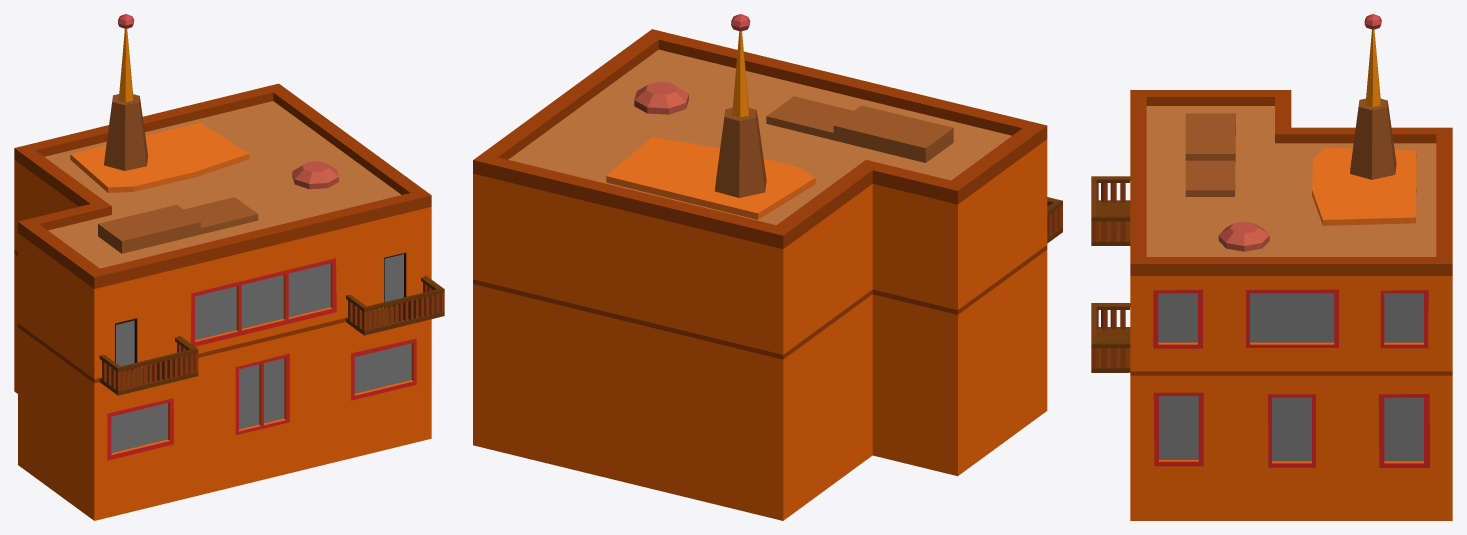
Rendered from Hochhaus dach.fbx.
3 views of the same model, side by side, from view 1: azimuth 30°, elevation 25°; view 2: azimuth 150°, elevation 25°; view 3: azimuth 270°, elevation 25° (orthographic). The views are drawn at different scales.
Parts seen in each view (by area): view 1: Haus, Haus Top Boden, Haus Kante, Fenster, Antenne Bottom, Halterung Fenster, Cube Platform, Balkon, Balkon Reeling, Antennne 2 Bottom, Haus Außen Boden, Zylinder Platform (+2 smaller); view 2: Haus, Haus Kante, Haus Top Boden, Antenne Bottom, Cube Platform, Antennne 2 Bottom, Haus Außen Boden, Zylinder Platform, Antennne 2 Top; view 3: Haus, Haus Top Boden, Fenster, Haus Kante, Halterung Fenster, Antenne Bottom, Cube Platform, Balkon Reeling, Antennne 2 Bottom, Balkon, Haus Außen Boden, Zylinder Platform (+1 smaller).
Boxes of the visible parts, box(x1,y1,x2,y2) form: Haus: box(14, 160, 431, 520); Haus Top Boden: box(44, 101, 400, 268); Haus Kante: box(14, 83, 431, 288); Fenster: box(111, 254, 411, 453); Antenne Bottom: box(70, 123, 249, 192); Halterung Fenster: box(107, 258, 416, 460); Cube Platform: box(98, 197, 258, 253); Balkon: box(102, 282, 444, 391); Balkon Reeling: box(99, 276, 444, 395); Antennne 2 Bottom: box(104, 94, 147, 170); Haus Außen Boden: box(14, 250, 345, 383); Zylinder Platform: box(292, 161, 338, 189); Haus: box(473, 139, 1047, 520); Haus Kante: box(473, 29, 1047, 248); Haus Top Boden: box(508, 49, 1011, 225); Antenne Bottom: box(606, 137, 815, 219); Cube Platform: box(766, 96, 953, 162); Antennne 2 Bottom: box(714, 108, 766, 197); Haus Außen Boden: box(473, 245, 1047, 359); Zylinder Platform: box(634, 81, 688, 114); Antennne 2 Top: box(732, 31, 749, 117); Haus: box(1130, 276, 1452, 520); Haus Top Boden: box(1146, 106, 1436, 256); Fenster: box(1158, 293, 1423, 461); Haus Kante: box(1130, 90, 1452, 275); Halterung Fenster: box(1153, 289, 1429, 467); Antenne Bottom: box(1312, 147, 1416, 225); Cube Platform: box(1185, 113, 1235, 196); Balkon Reeling: box(1091, 176, 1130, 372); Antennne 2 Bottom: box(1350, 98, 1396, 179); Balkon: box(1091, 183, 1125, 368); Haus Außen Boden: box(1130, 371, 1452, 375); Zylinder Platform: box(1218, 221, 1269, 251).
Bounding box in the file's own units: 3020 × 3304 × 2655.
